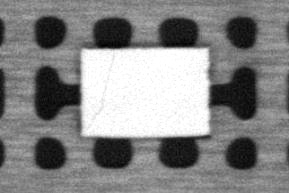DIE_CRACK: (86, 54, 115, 128)
